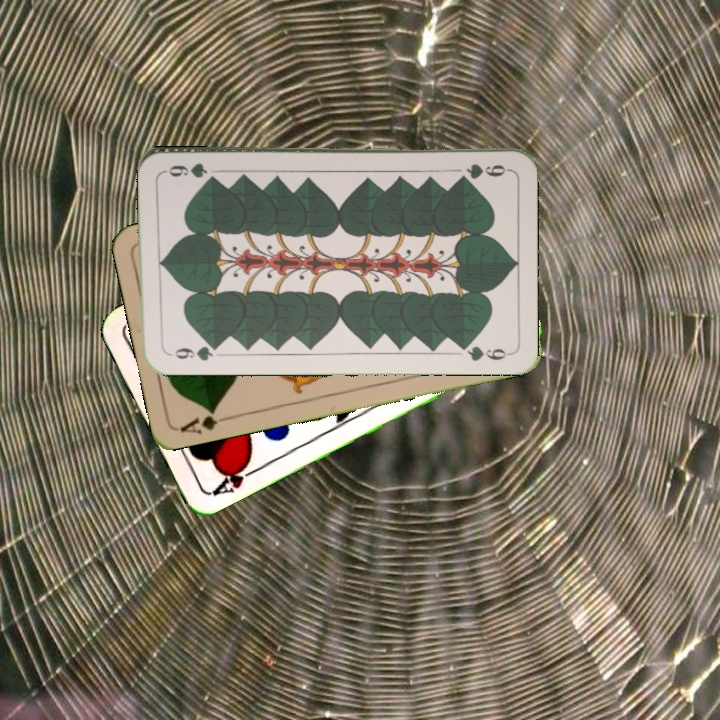G9: (162, 340, 221, 364), (462, 159, 511, 180)
GA: (176, 404, 234, 436)
HA: (207, 456, 263, 499)
